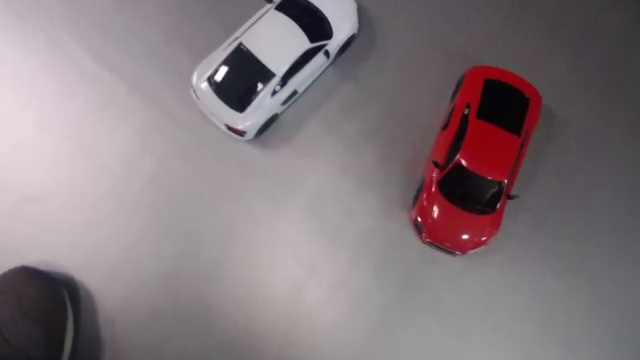car: (406, 65, 542, 254), (189, 1, 362, 139)
